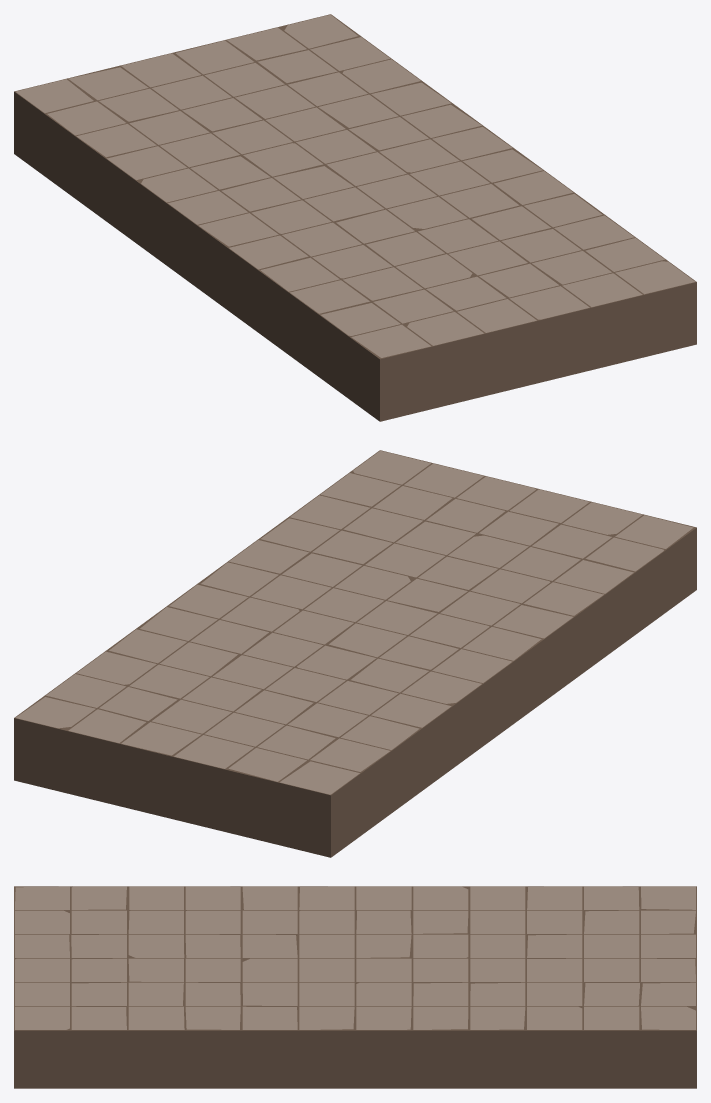
The model's file is Seafront_03.fbx.
3 renders of one model, top to bottom at view 1: azimuth 30°, elevation 25°; view 2: azimuth 150°, elevation 25°; view 3: azimuth 270°, elevation 25°, orthographic. The views are drawn at different scales.
Visible parts, largest first — view 1: Seafront_03; view 2: Seafront_03; view 3: Seafront_03.
Part boxes in pixels (x1,y1,x2,y2): Seafront_03: [14, 14, 696, 421]; Seafront_03: [14, 450, 696, 857]; Seafront_03: [14, 886, 696, 1088].
Bounding box in the file's own units: 600 × 113 × 1200.
